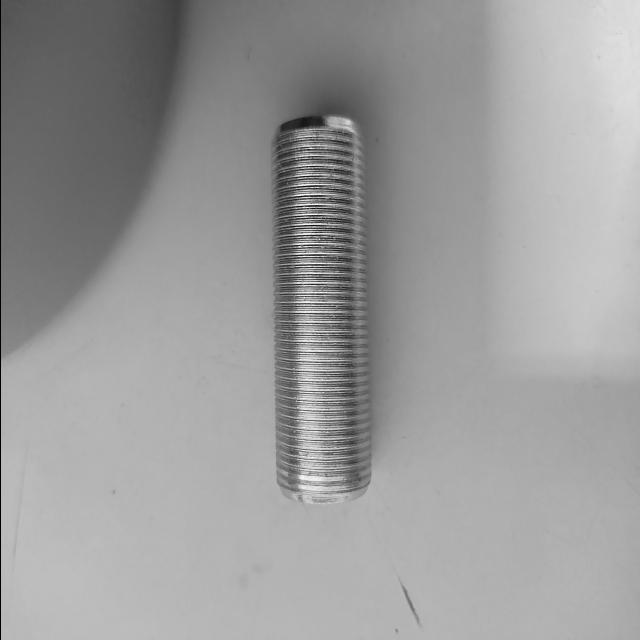Broken: (269, 116, 372, 502)
